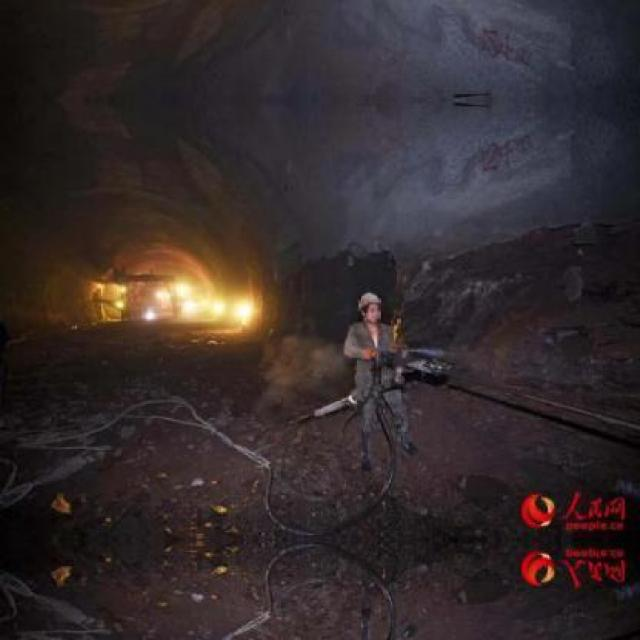hat: (348, 287, 385, 318)
